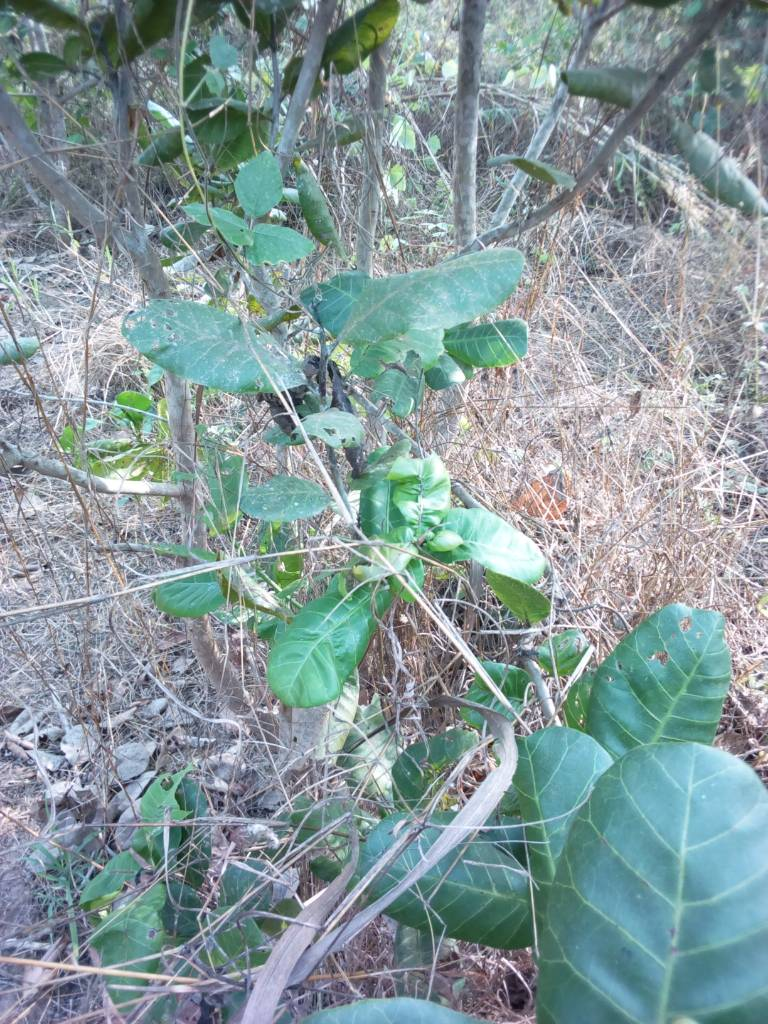Helopeltis anacardii: (599, 607, 733, 744), (266, 578, 382, 710), (444, 503, 550, 622), (391, 453, 450, 528)
